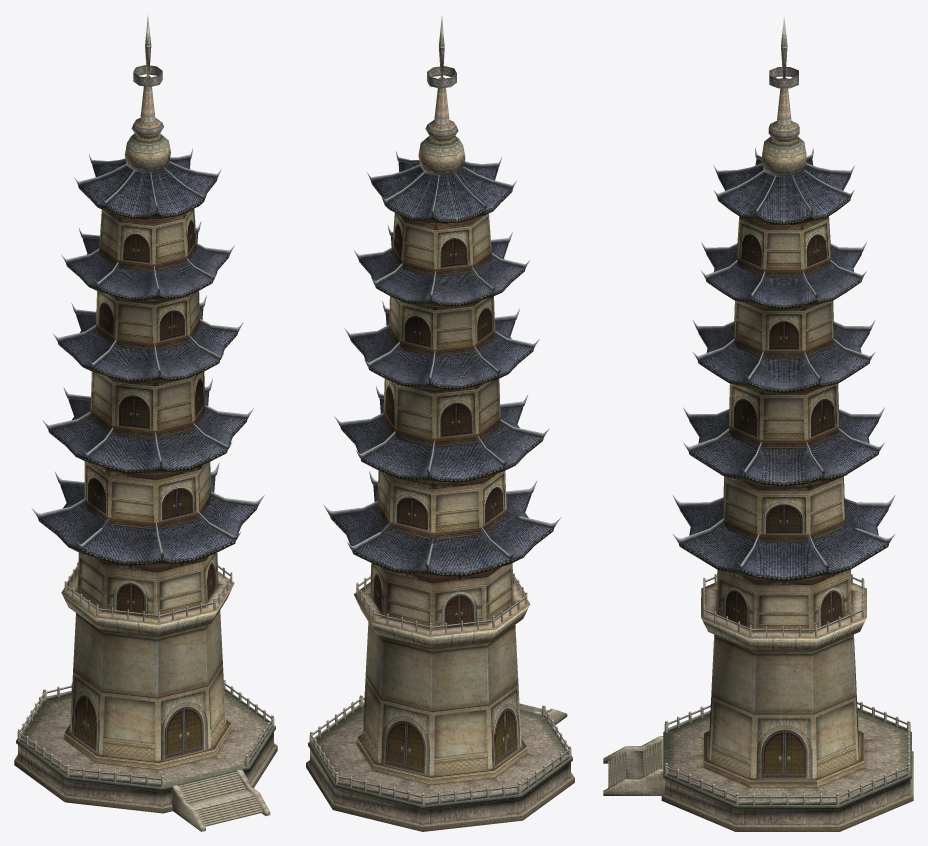
Rendered from milgyo_tower02.fbx.
The picture shows the model from 3 angles, left to right: view 1: azimuth 30°, elevation 25°; view 2: azimuth 150°, elevation 25°; view 3: azimuth 270°, elevation 25°; orthographic projection. The views are drawn at different scales.
Visible parts, largest first — view 1: milgyo_tower02; view 2: milgyo_tower02; view 3: milgyo_tower02.
Boxes of the visible parts, <box> form: milgyo_tower02: <box>14,15,277,831</box>; milgyo_tower02: <box>306,16,574,831</box>; milgyo_tower02: <box>603,15,913,831</box>.
Bounding box in the file's own units: 34.05 × 114 × 41.92.
